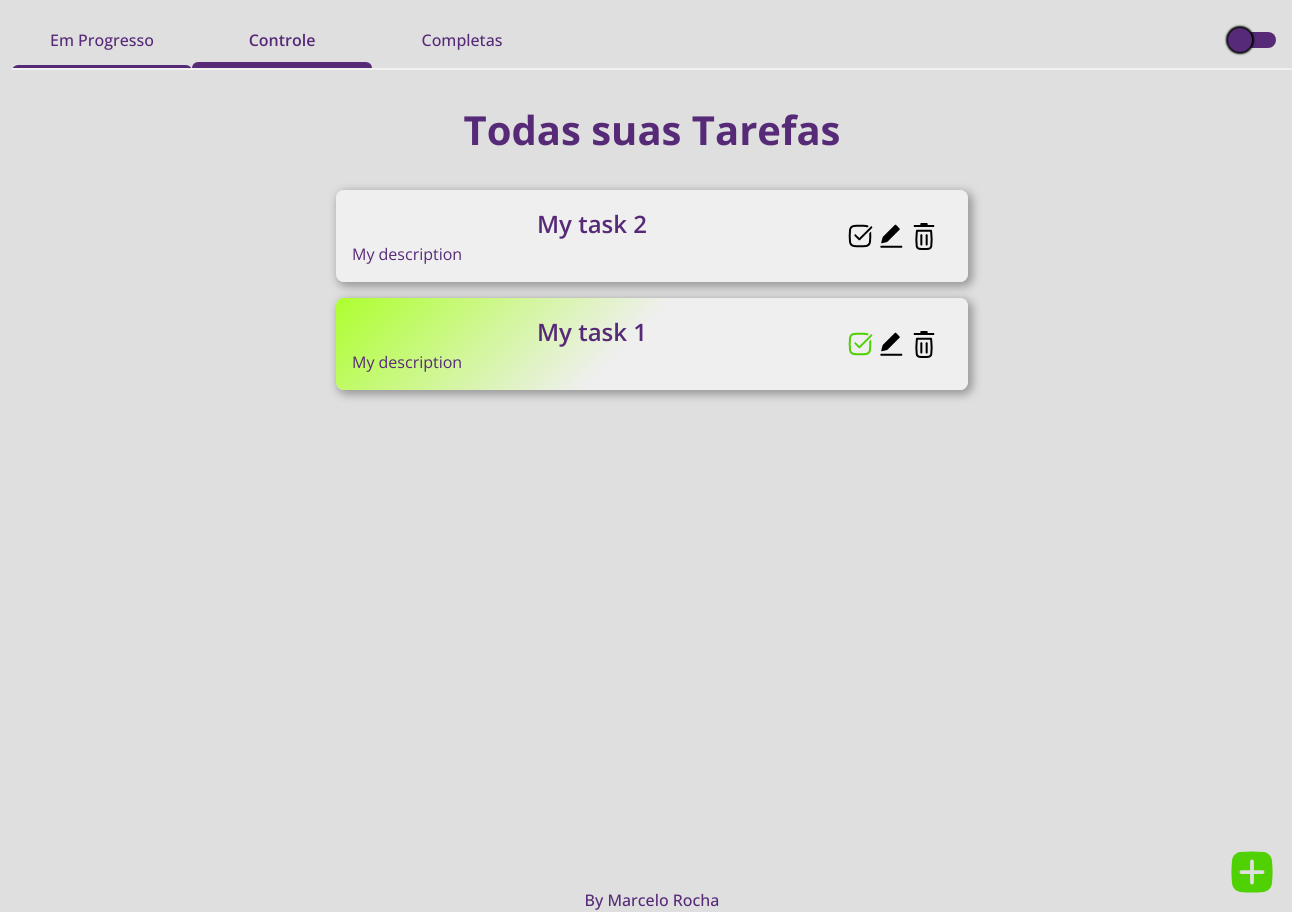
Test: <App /> › should enter incomplete tab
What coordinates should you click on to do the following:
click the button "Em Progresso"
I would click on:
 (102, 40)
Its box is [12,12,192,68].
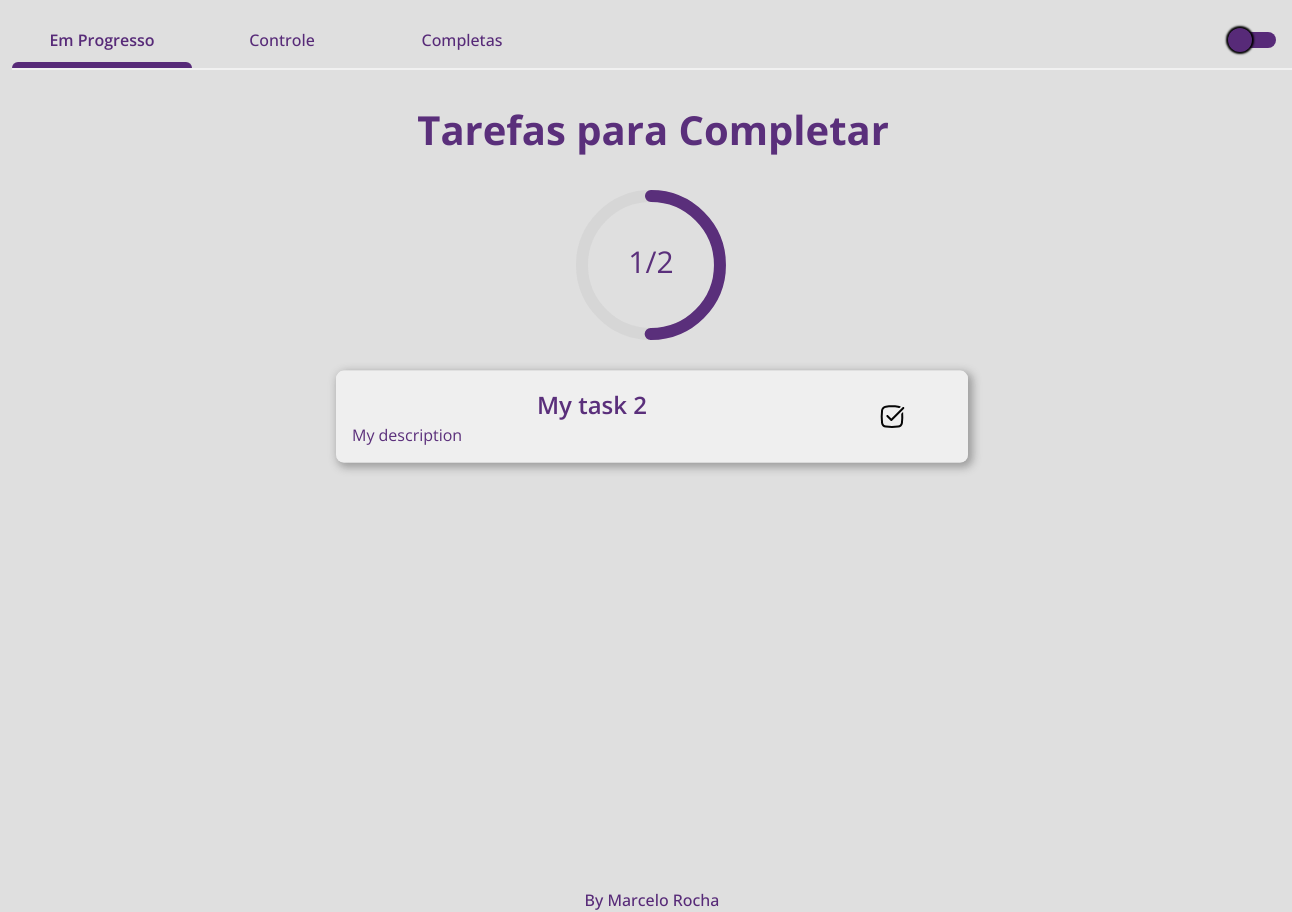
Expected: the button "Controle" is shown, [192,12,372,68]
Now the heading "Tarefas para Completar" is shown, box [417,100,889,160]
Now the heading "Todas suas Tarefas" is gone
